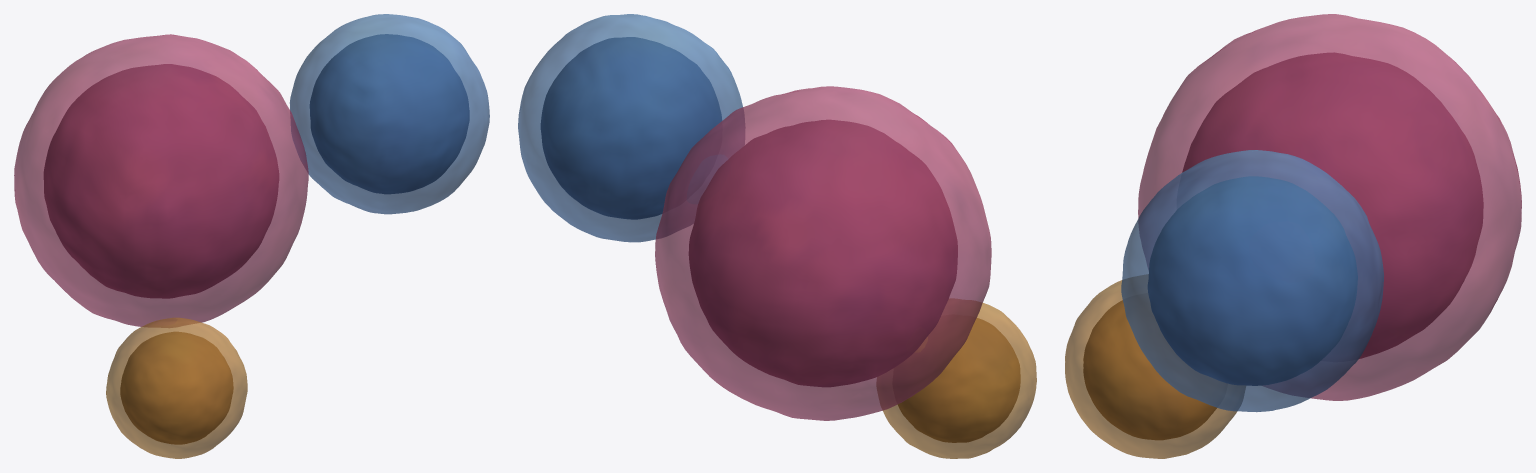
Rendered from vesicle.glb.
3 renders of one model, left to right at view 1: azimuth 30°, elevation 25°; view 2: azimuth 150°, elevation 25°; view 3: azimuth 270°, elevation 25°, orthographic. The views are drawn at different scales.
Parts seen in each view (by area): view 1: vesicle-spheres; view 2: vesicle-spheres; view 3: vesicle-spheres.
Part boxes in pixels (x1,y1,x2,y2): vesicle-spheres: [14, 14, 489, 458]; vesicle-spheres: [518, 14, 1036, 458]; vesicle-spheres: [1065, 14, 1521, 458].
Size of what is drawn, in the model's own units: 1.62 by 1.29 by 1.19.
